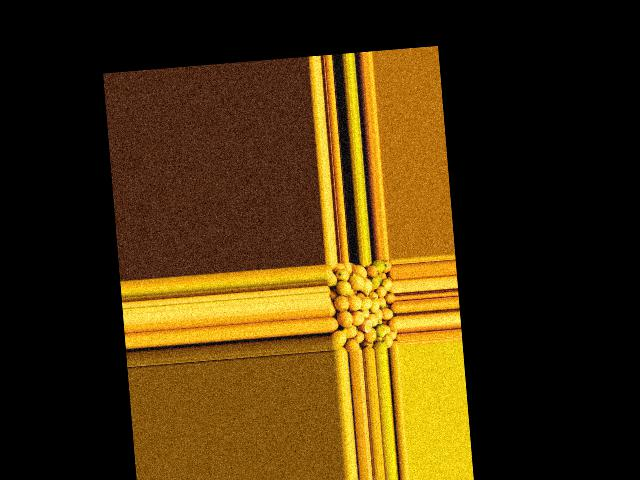lemon: (327, 302, 335, 316)
